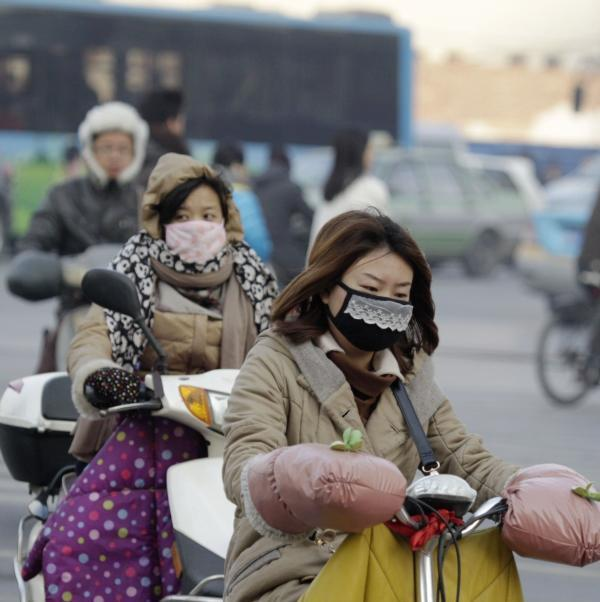NONE: (96, 131, 133, 180)
OK: (332, 260, 414, 354), (164, 196, 231, 263)
